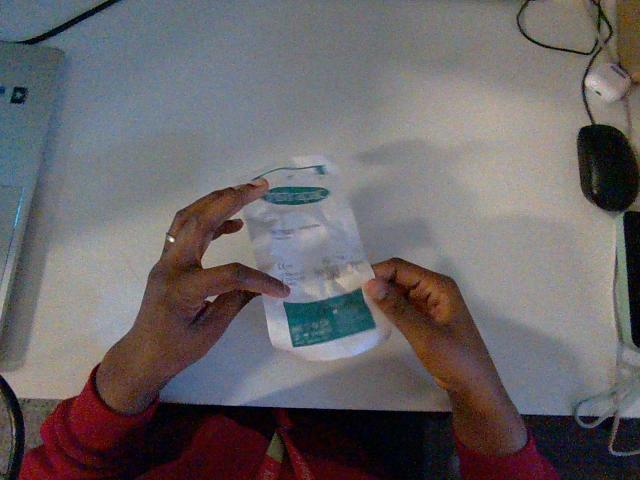gallipot: (244, 156, 390, 360)
